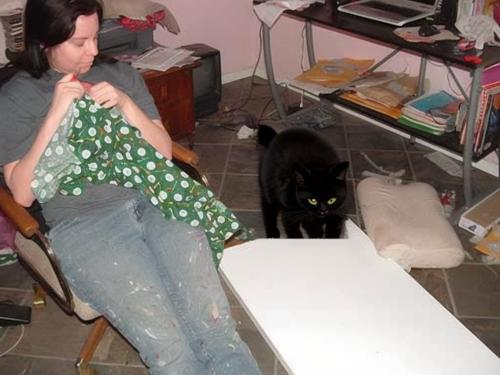cat: (258, 124, 348, 238)
chair: (2, 122, 227, 373)
person: (1, 1, 263, 375)
person/hand: (47, 73, 85, 119), (87, 81, 124, 109)
person/head: (27, 1, 101, 75)
